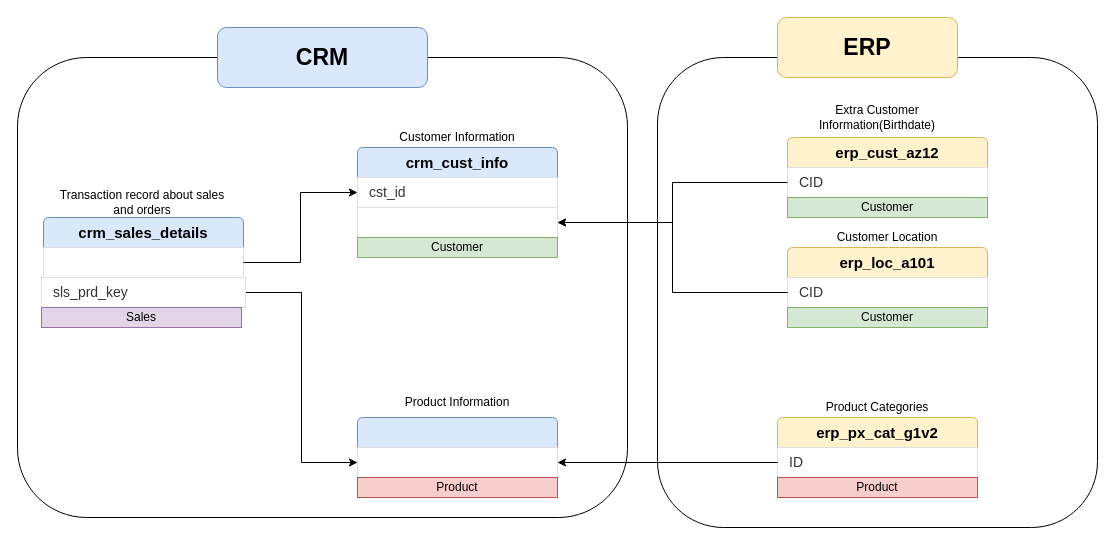
This 1115x545 diagram has some shape labels left out. Each missing label, with the box of its shape:
crm_prd_info: (356, 416, 558, 448)
cst_key: (356, 206, 558, 238)
prd_key: (356, 446, 558, 478)
sls_cst_id: (42, 246, 244, 278)
